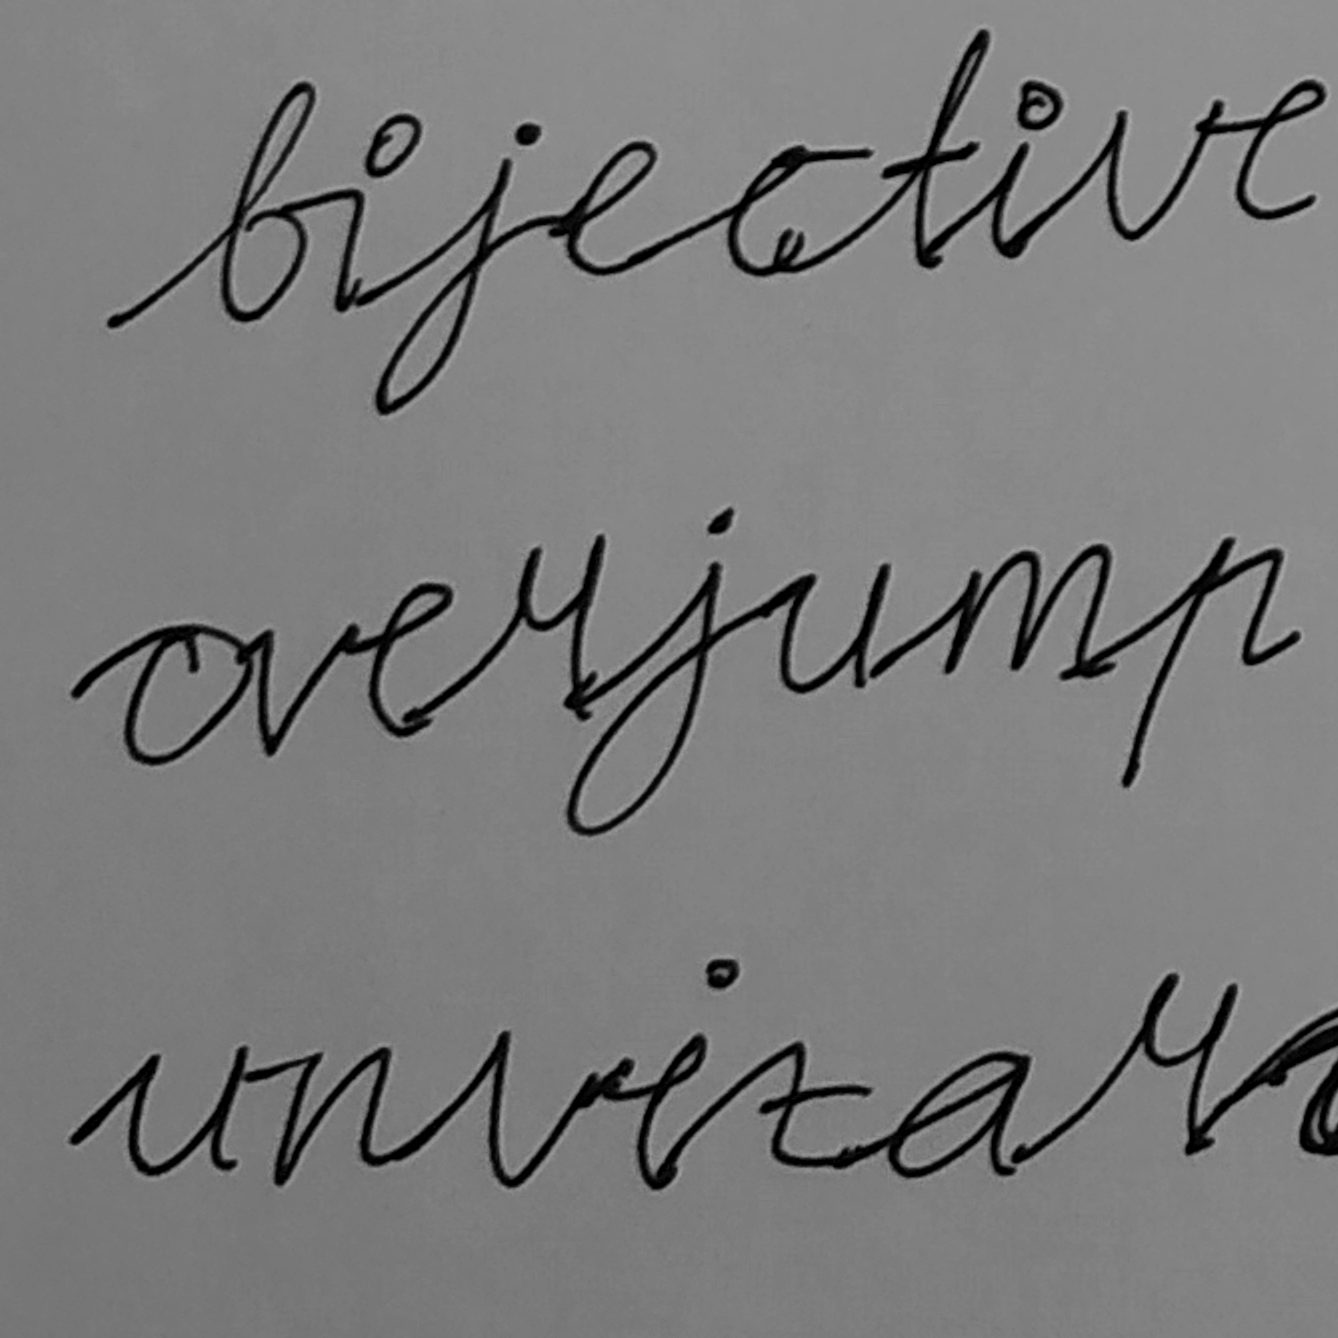e: (366, 577, 461, 741)
j: (559, 504, 736, 841)
m: (939, 540, 1114, 682)
o: (119, 620, 259, 768)
p: (1117, 534, 1287, 792)
r: (491, 529, 611, 727)
u: (776, 557, 894, 698)
v: (243, 618, 364, 762)
